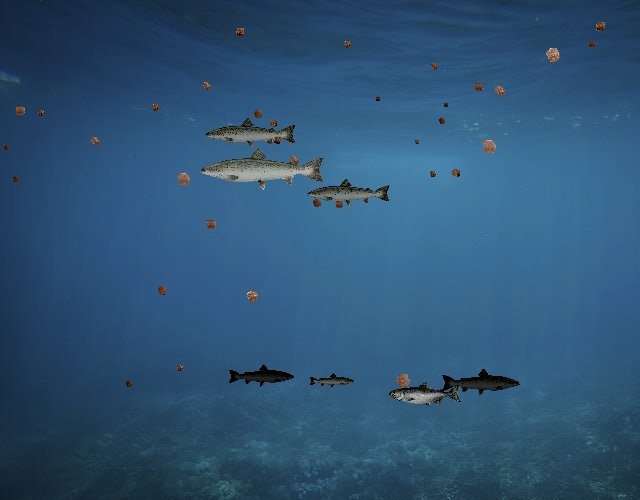Fish: (198, 145, 327, 191), (205, 117, 299, 151), (306, 177, 392, 208), (441, 368, 522, 397), (389, 382, 462, 408), (227, 364, 295, 388), (308, 372, 355, 389)
Pellet: (240, 284, 265, 309), (339, 37, 356, 54), (172, 361, 187, 376), (122, 377, 136, 391), (426, 167, 440, 181), (34, 106, 48, 120)
